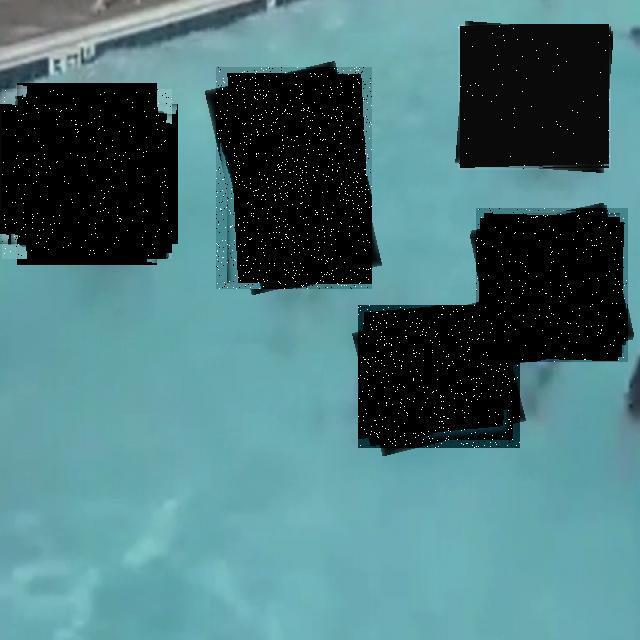swimming: (216, 67, 372, 289), (2, 89, 172, 259), (476, 208, 628, 362), (358, 305, 520, 448), (458, 24, 611, 170)
